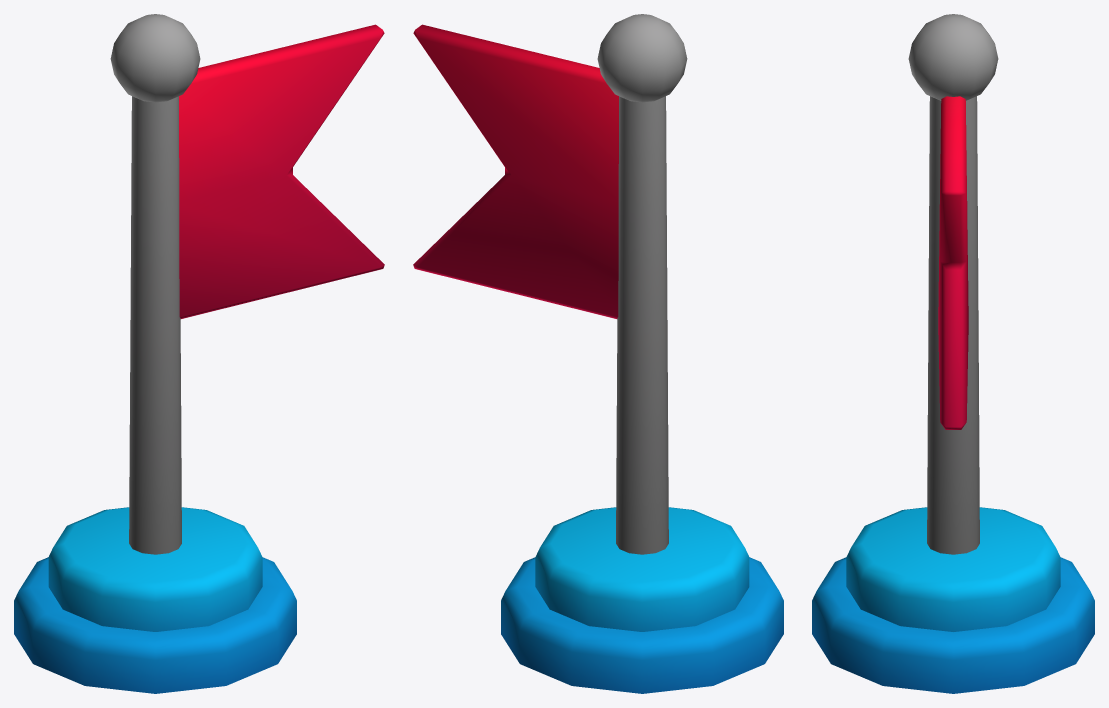
Rendered from Prop_Flag_02.fbx.
3 renders of one model, left to right at view 1: azimuth 30°, elevation 25°; view 2: azimuth 150°, elevation 25°; view 3: azimuth 270°, elevation 25°, orthographic.
Visible parts, largest first — view 1: Prop_Flag_02; view 2: Prop_Flag_02; view 3: Prop_Flag_02.
Boxes of the visible parts, <box> form: Prop_Flag_02: <box>14,14,384,693</box>; Prop_Flag_02: <box>413,14,783,693</box>; Prop_Flag_02: <box>812,14,1094,693</box>.
Bounding box in the file's own units: 67.14 × 114 × 47.27.
